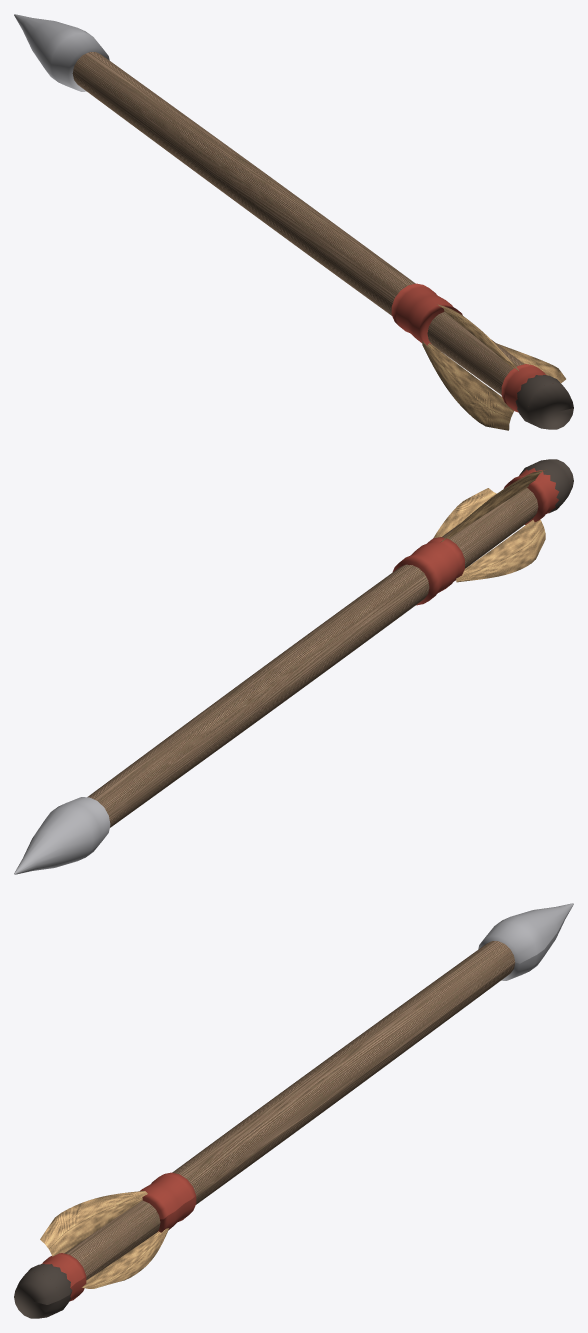
The model's file is bolt.glb.
3 renders of one model, top to bottom at view 1: azimuth 30°, elevation 25°; view 2: azimuth 150°, elevation 25°; view 3: azimuth 330°, elevation 25°, orthographic.
Visible parts, largest first — view 1: bolt; view 2: bolt; view 3: bolt.
Part boxes in pixels (left/top/right/bottom): bolt: left=14, top=14, right=573, bottom=430; bolt: left=14, top=459, right=573, bottom=874; bolt: left=14, top=903, right=573, bottom=1318.
Bounding box in the file's own units: 0.0322 × 0.0355 × 0.4.
Materials: 7 (4 with a texture image).
